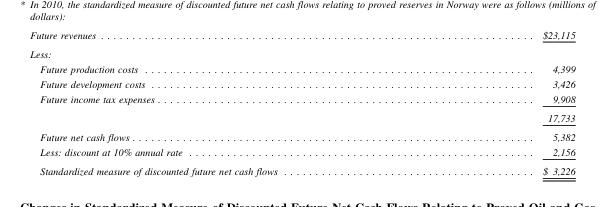table: (29, 28, 574, 176)
table column: (29, 28, 409, 176), (409, 28, 574, 176)
table projected row header: (29, 43, 574, 60)
table row: (29, 108, 574, 127), (29, 43, 574, 60), (29, 91, 574, 108), (29, 127, 574, 144), (29, 144, 574, 161), (29, 75, 574, 91), (29, 28, 574, 43), (29, 60, 574, 75), (29, 161, 574, 176)
